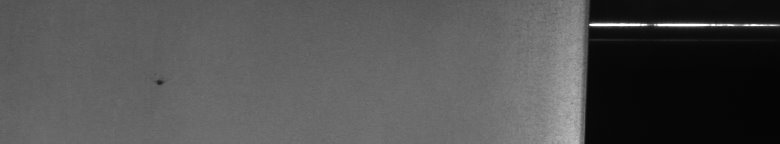fi: (154, 72, 166, 92)
